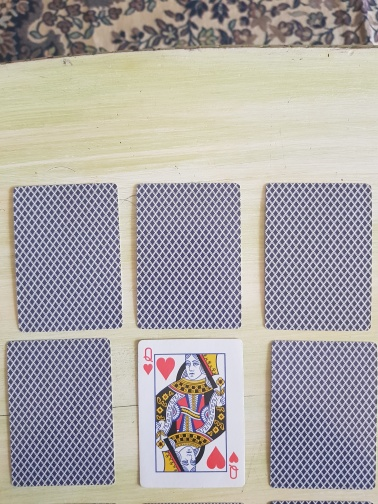queen: (136, 338, 247, 489)
